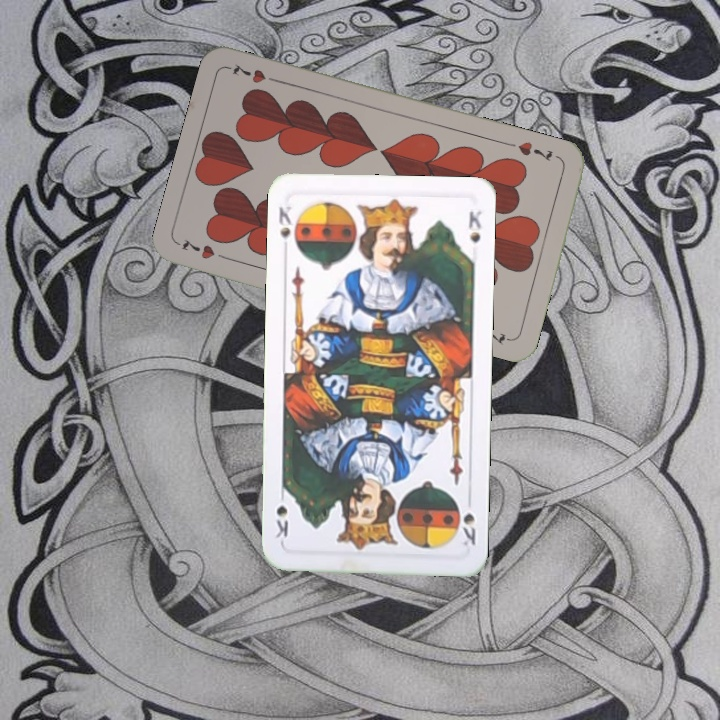H7: (175, 235, 233, 264), (504, 137, 555, 164)
SK: (274, 201, 301, 253), (458, 509, 478, 550)
